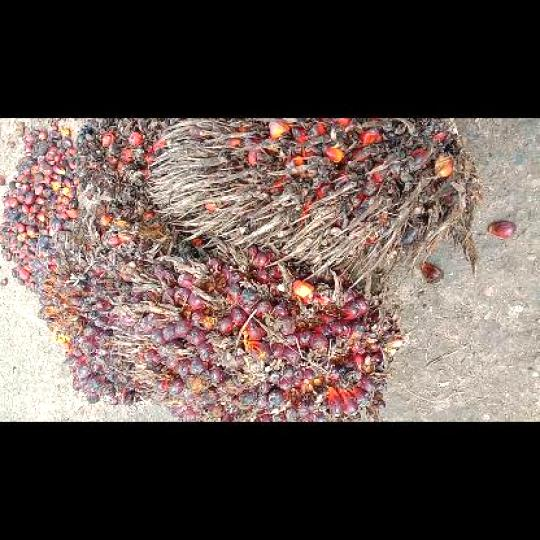masak: (113, 245, 401, 420), (39, 210, 218, 403)
terlalu masak: (146, 118, 480, 287), (72, 117, 176, 210)
